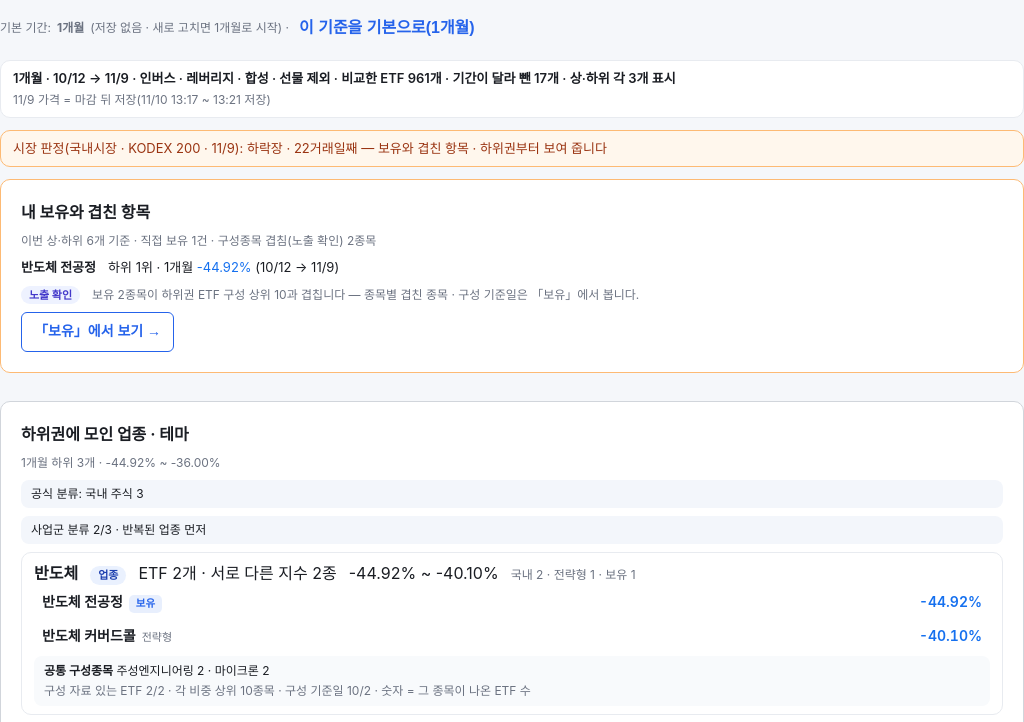
Scenario: 「섹터요약」 첫 화면 › ETF 를 누르면 그 행 아래 상세 — 그 종목 하나의 상세 수치 · 1 · 3 · 6 · 12개월 · 시장가 · NAV · 괴리율 · 판단 근거 카드
Step 1. Click the button "반도체 전공정 보유 -44.92%" → coordinates (82, 602), box [42,593,982,613]
(page scrolled)
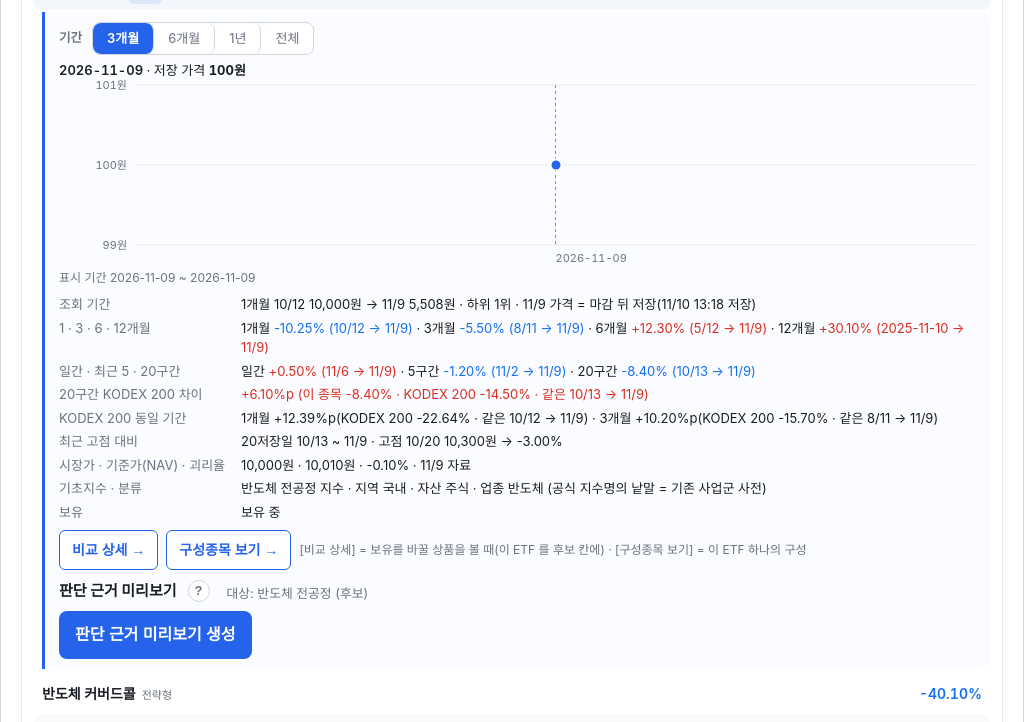
Expected: the element with test id "dn-months" shows "1개월 -10.25% (10/12 → 11/9) · 3개월 -5.50% (8/11 → 11/9) · 6개월 +12.30% (5/12 → 11/9) · 12개월 +30.10% (2025-11-10 → 11/9)", [241,319,976,358]
Expected: the text with test id "dn-excess" reads "+6.10%p (이 종목 -8.40% · KODEX 200 -14.50% · 같은 10/13 → 11/9)", [241,386,649,402]
Expected: the text with test id "dn-nav" reads "10,000원 · 10,010원 · -0.10% · 11/9 자료", [241,457,471,473]
